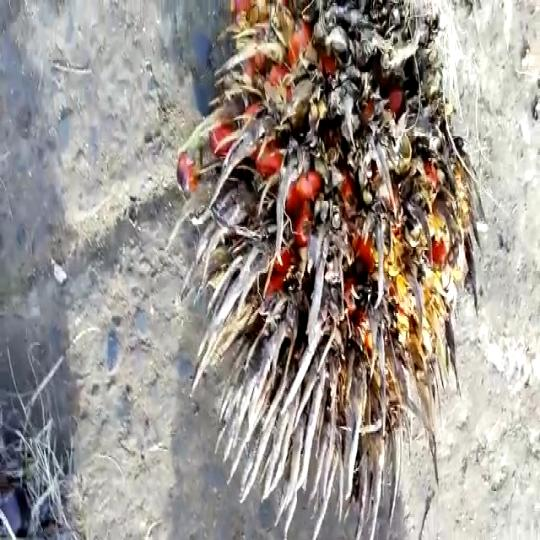terlalu masak: (179, 0, 492, 540)
